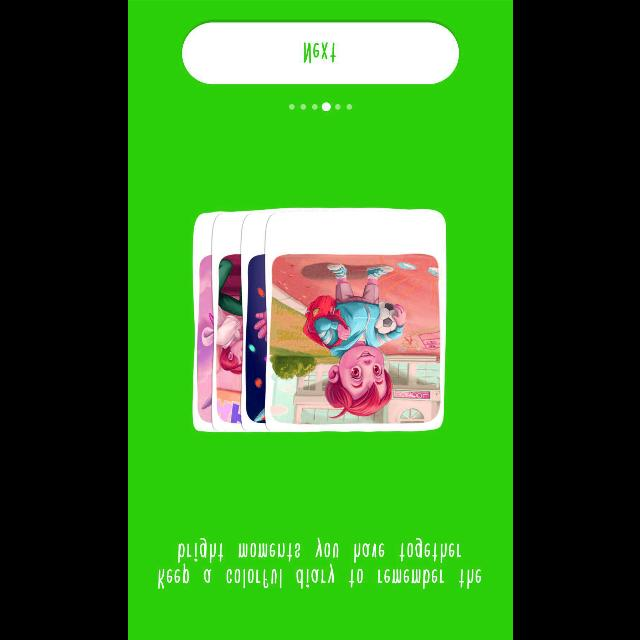image: (191, 207, 447, 433)
pageindicator: (286, 101, 352, 112)
text: (157, 537, 481, 589)
textbutton: (181, 22, 459, 84)
